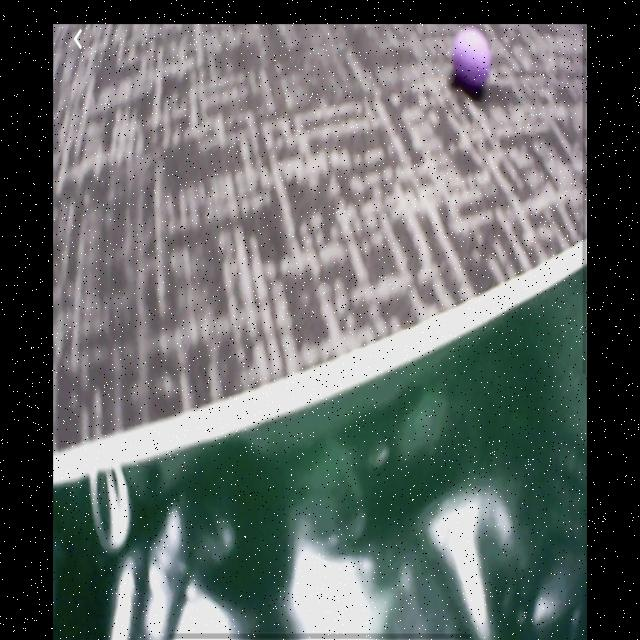ball: (454, 29, 492, 88)
